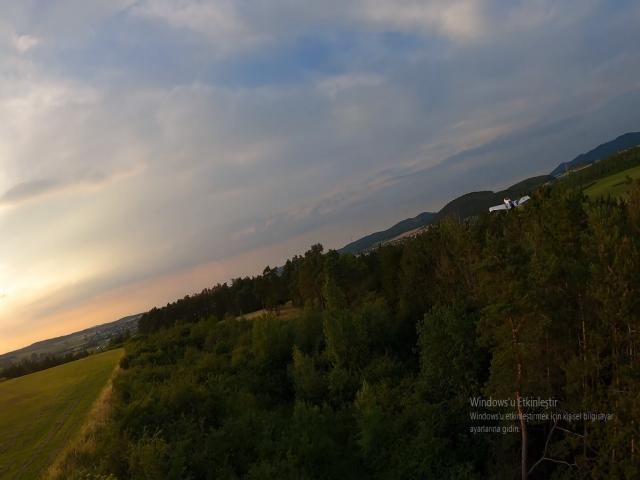plane: (489, 194, 529, 216)
